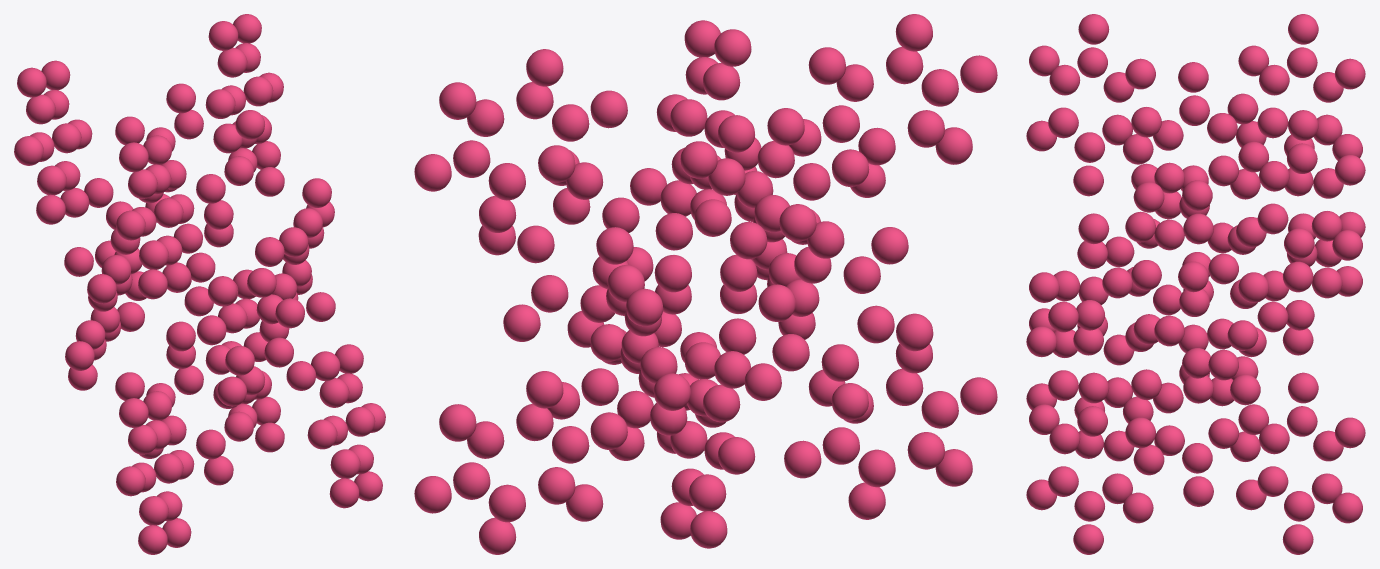
3 views of the same model, side by side, from view 1: azimuth 30°, elevation 25°; view 2: azimuth 150°, elevation 25°; view 3: azimuth 270°, elevation 25° (orthographic). The views are drawn at different scales.
Size of the model in its own units: 1202 by 1513 by 1102.
